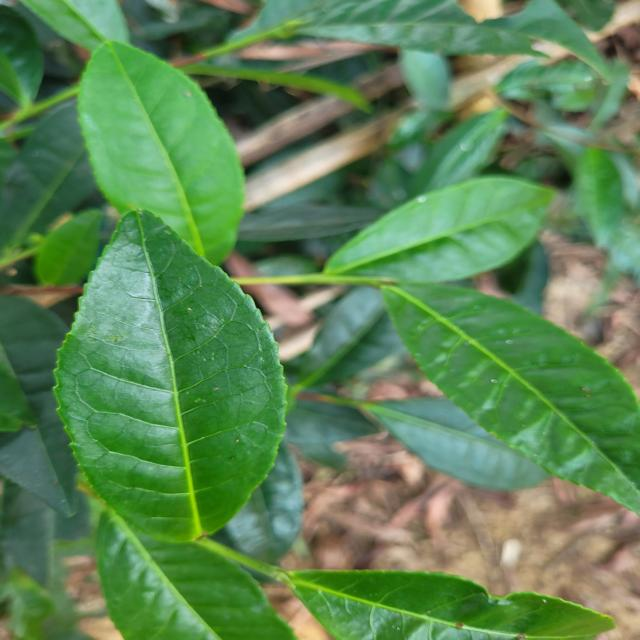Category D(7+ days, Not for Tea): (39, 189, 302, 563)
